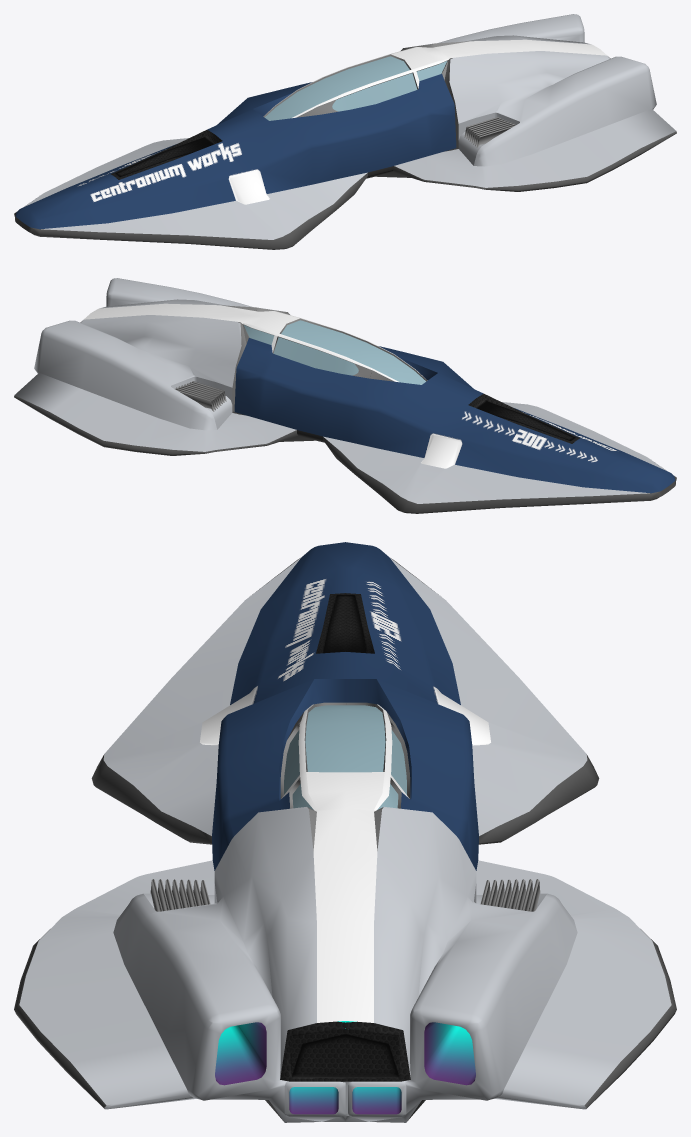
File: shipscaled.obj
3 views of the same model, one above another, from view 1: azimuth 30°, elevation 25°; view 2: azimuth 150°, elevation 25°; view 3: azimuth 270°, elevation 25° (orthographic). The views are drawn at different scales.
Visible parts, largest first — view 1: AGSYS, AGSYS.001, AGSYS.002; view 2: AGSYS, AGSYS.001, AGSYS.002; view 3: AGSYS, AGSYS.001, AGSYS.002.
Boxes of the visible parts, box(x1,y1,x2,y2) form: AGSYS: box(15, 14, 656, 229); AGSYS.001: box(14, 109, 676, 249); AGSYS.002: box(464, 117, 515, 147); AGSYS: box(34, 278, 675, 493); AGSYS.001: box(14, 373, 676, 513); AGSYS.002: box(175, 381, 226, 411); AGSYS: box(113, 542, 577, 1122); AGSYS.001: box(14, 558, 676, 1121); AGSYS.002: box(150, 879, 540, 911).
Size of the model in its own units: 399 by 61.64 by 205.
1 material, 1 textured.
